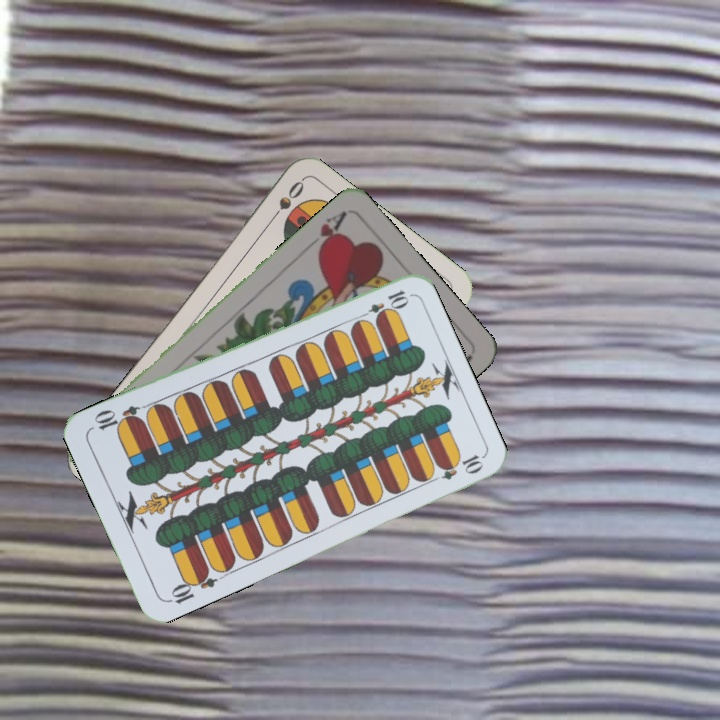E10: (163, 565, 219, 607), (354, 286, 411, 323)
HA: (312, 207, 349, 258)
SO: (264, 176, 307, 227)
